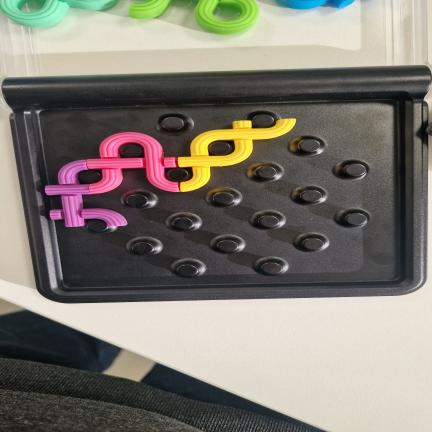A_Yellow: (178, 119, 295, 191)
G_Pink: (86, 133, 180, 193)
H_Purple: (45, 160, 127, 227)
board: (4, 65, 430, 303)
hinge: (0, 68, 431, 97)
pin: (161, 116, 185, 131), (209, 141, 233, 156), (251, 114, 275, 128), (298, 139, 321, 153), (120, 144, 143, 158), (78, 170, 101, 184), (167, 168, 190, 182), (344, 163, 366, 177), (126, 194, 148, 208), (86, 219, 108, 233), (257, 215, 280, 228), (255, 166, 277, 179), (300, 189, 322, 202), (172, 217, 194, 230), (345, 213, 367, 226), (302, 237, 324, 250), (216, 240, 238, 253), (132, 242, 154, 255), (176, 264, 198, 277), (261, 262, 283, 275), (213, 192, 234, 205)
